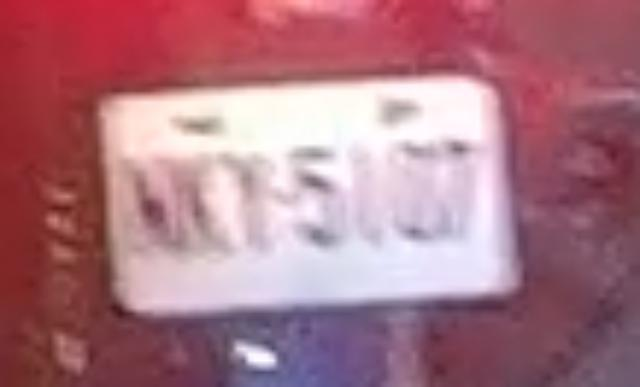plate: (88, 78, 528, 312)
